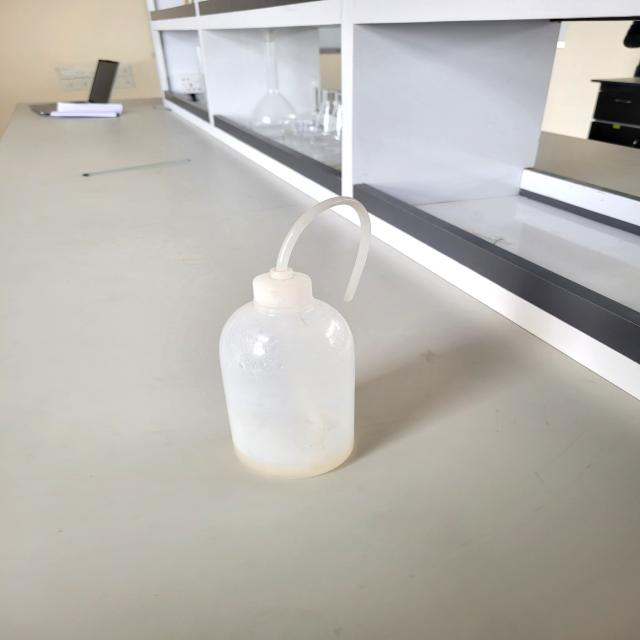Wash_Bottle: (218, 183, 396, 484)
